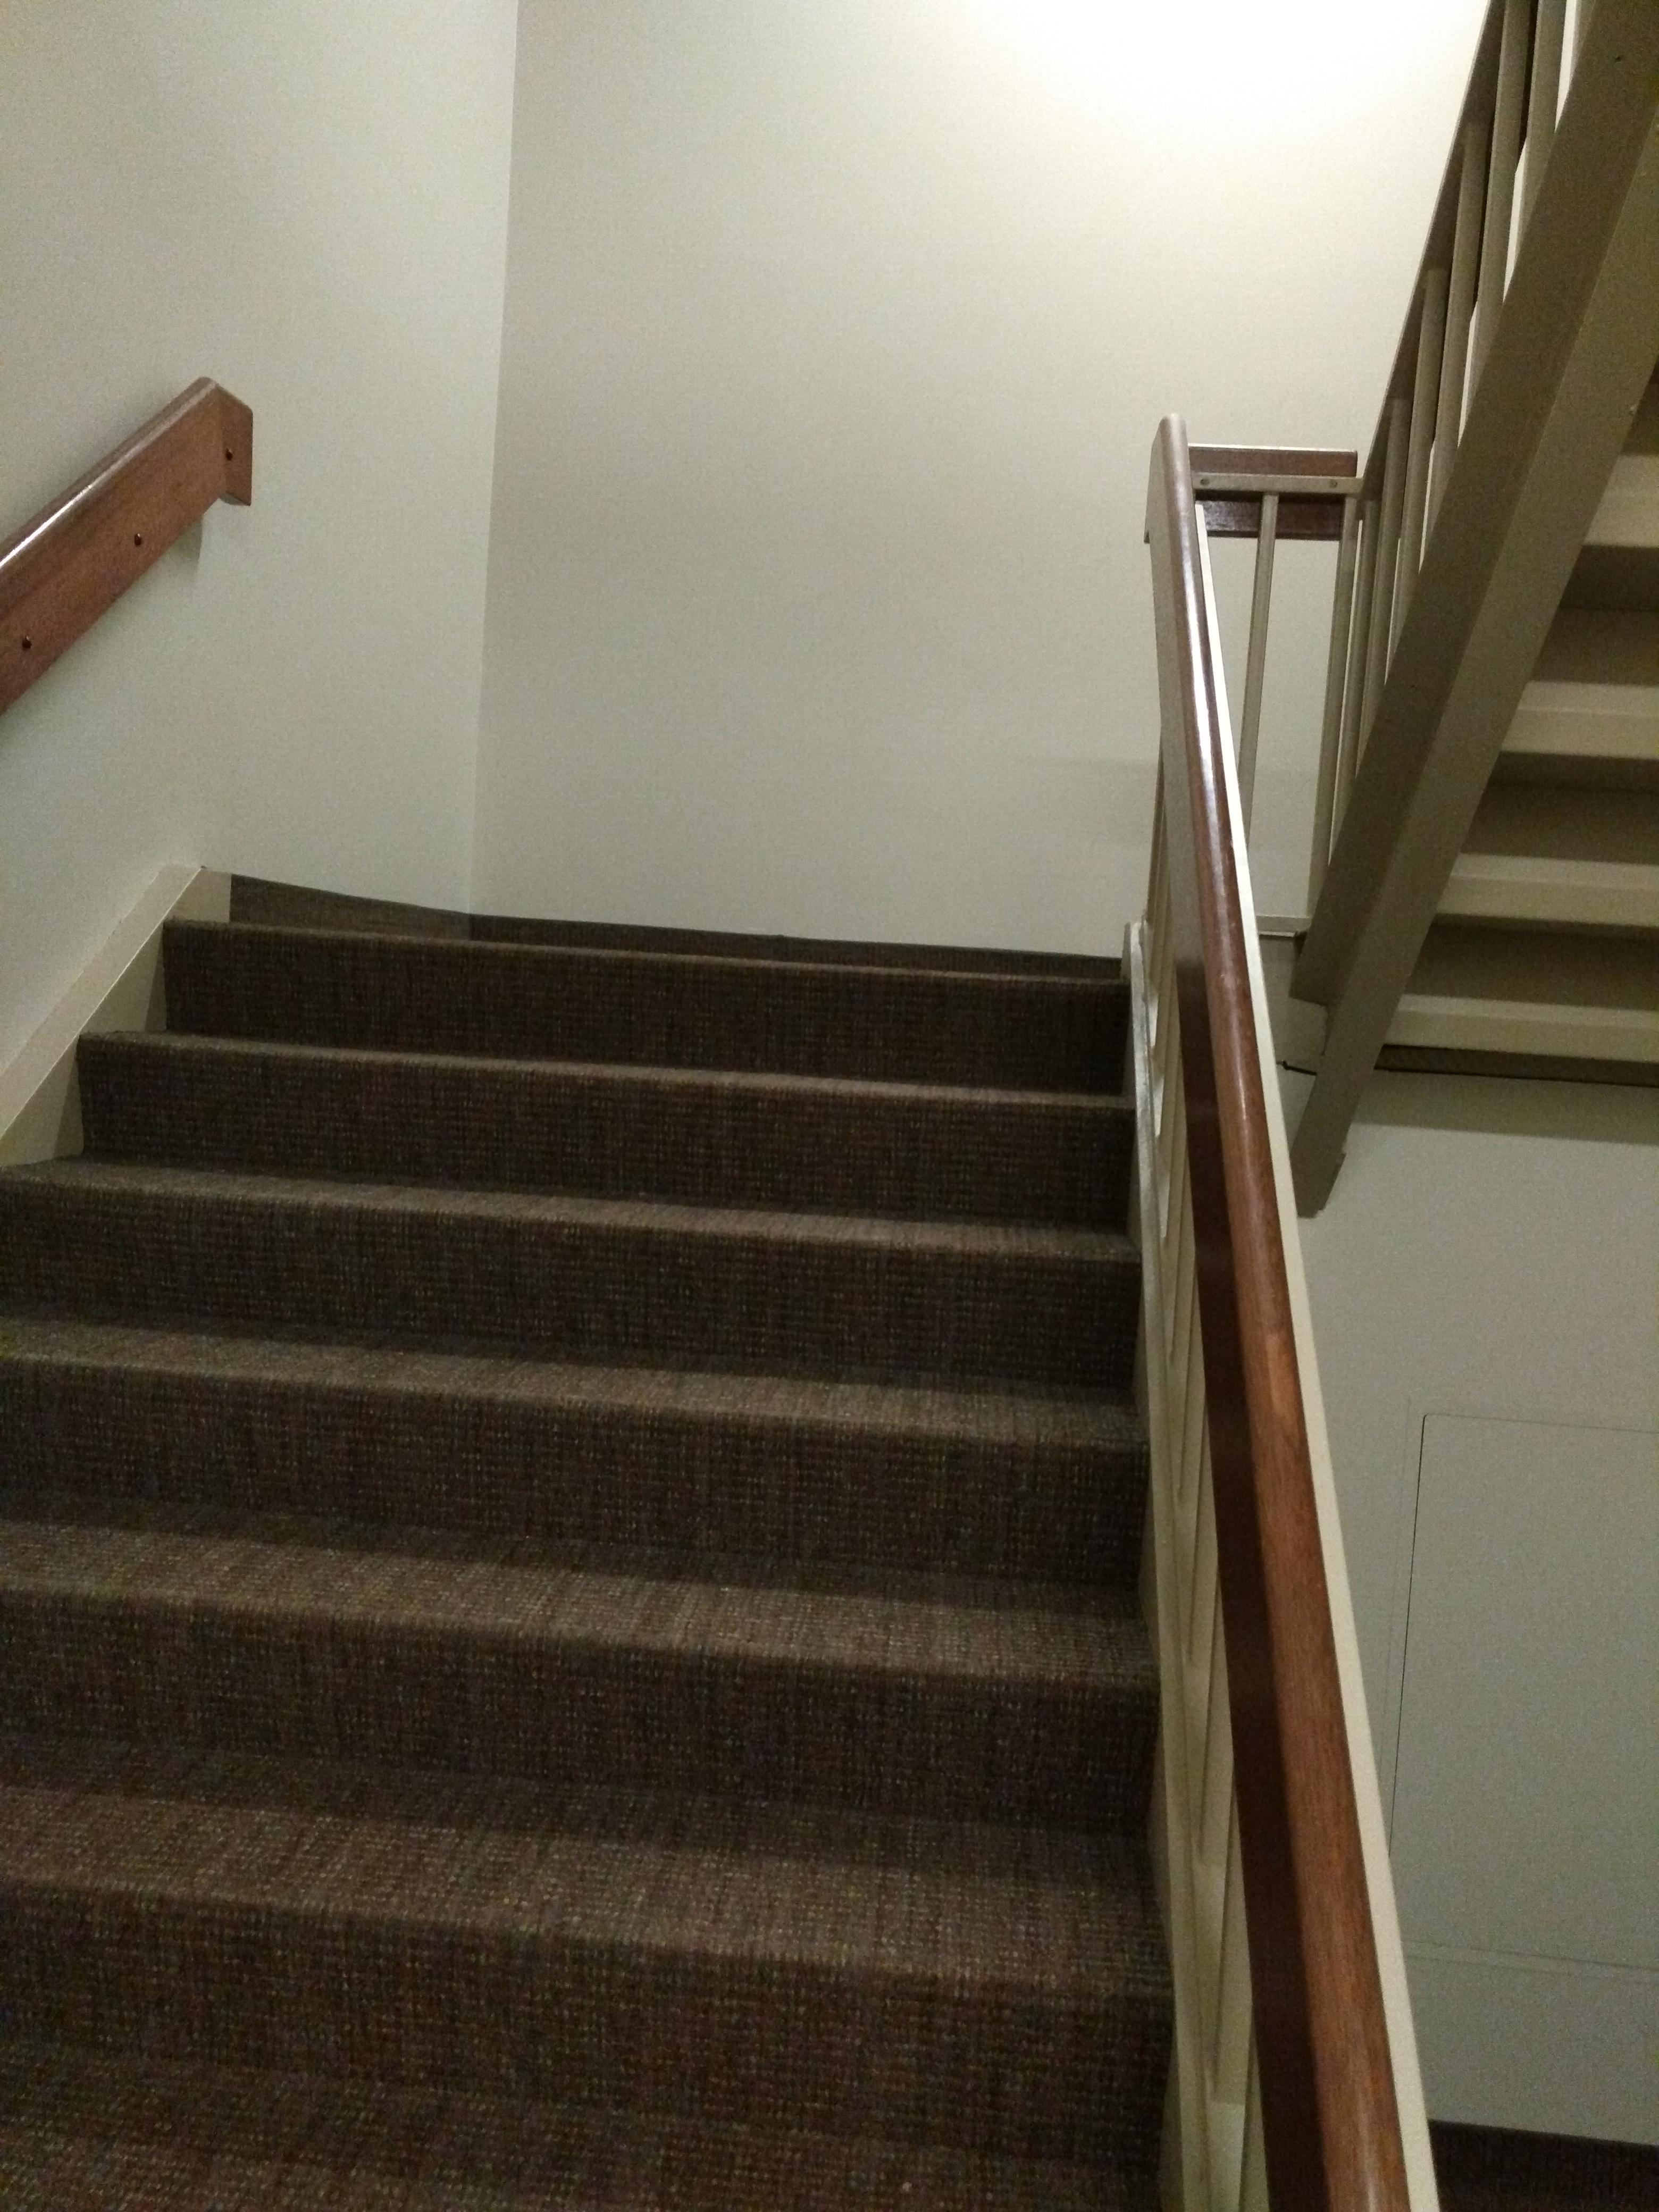stairs_up: (10, 890, 1215, 2212)
